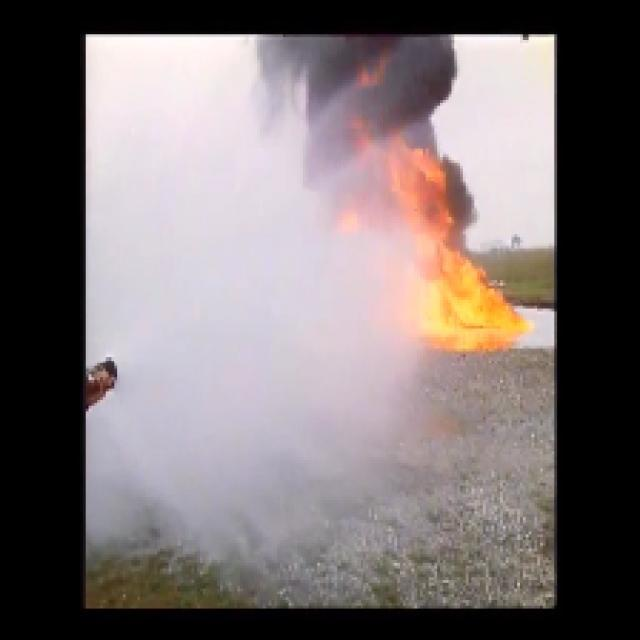Fire: (396, 180, 511, 358)
Smoke: (276, 39, 437, 132)
